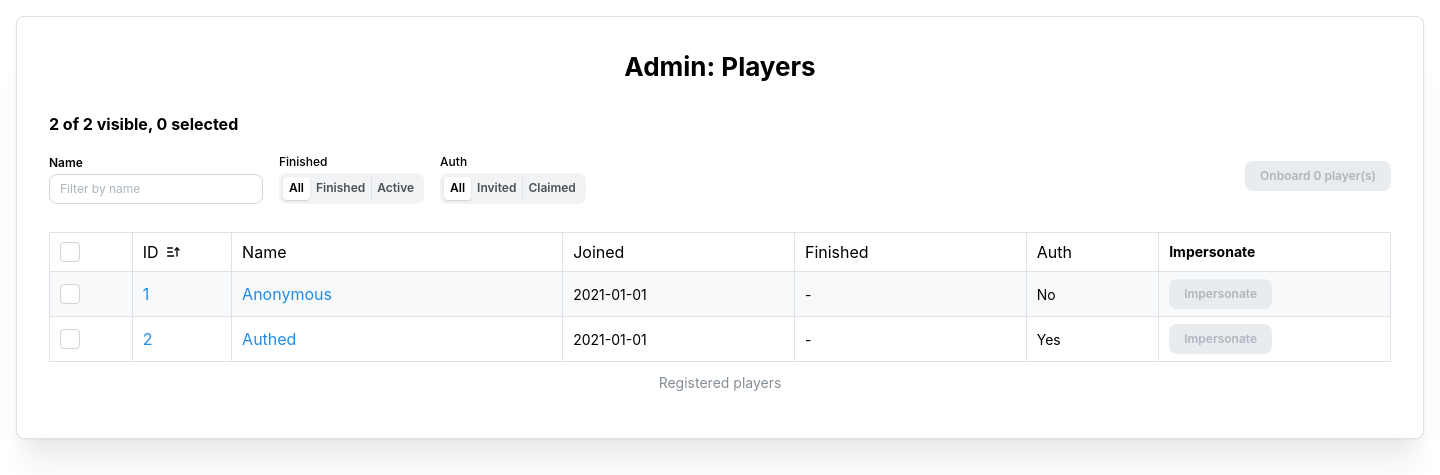
Test: AdminPlayerList › tri-state filters › filters to only claimed players when Claimed is selected
Step 1. Click the radio button labelled "Claimed" → coordinates (552, 188), box [528,180,576,195]
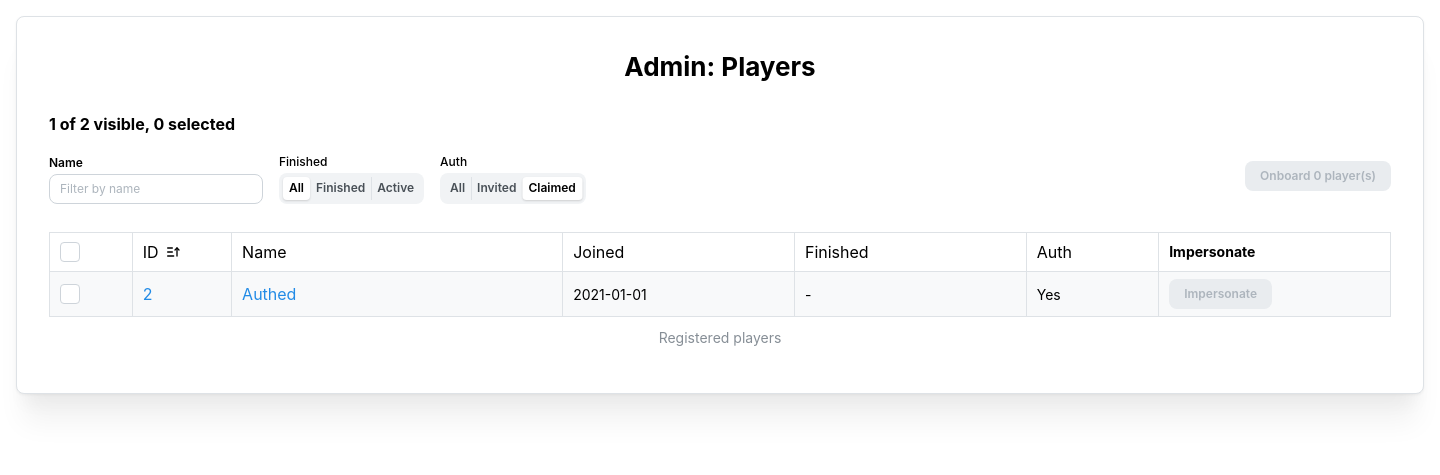
Expected: the link "Authed" is shown, [242,284,296,304]
Expected: the link "Anonymous" is gone
